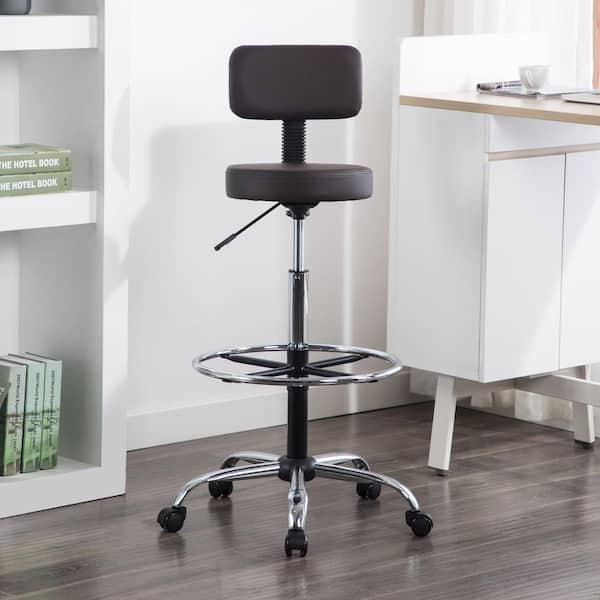chair: (170, 28, 402, 535)
